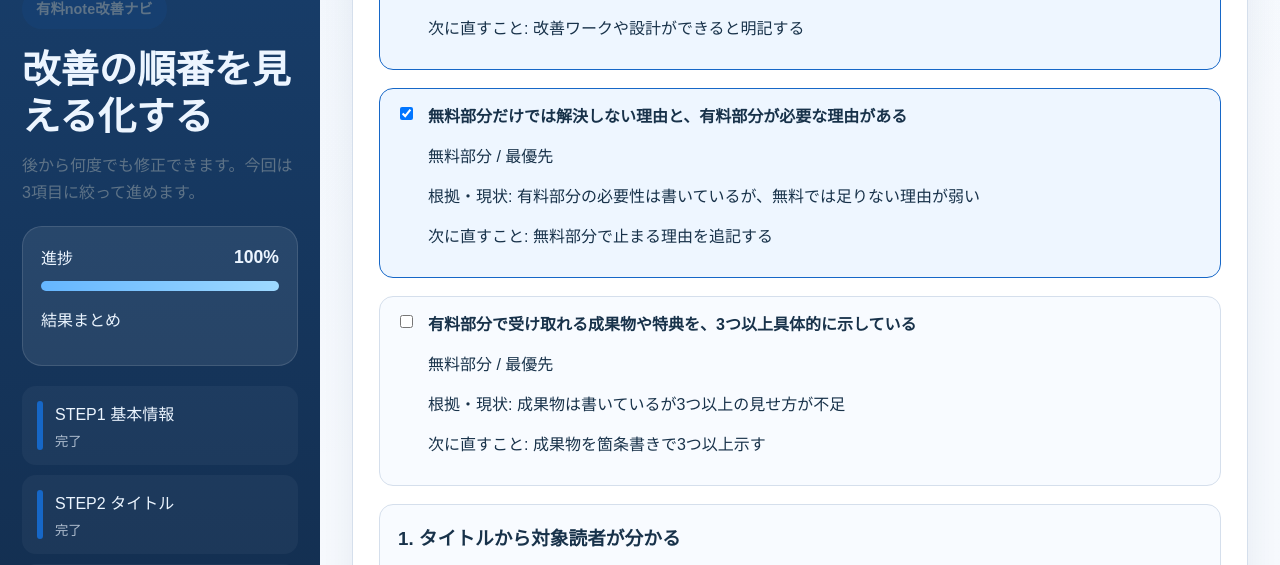
it: App UI › 最優先が4件以上なら3件まで選択できる
(page scrolled)
Click the 2nd checkbox at (406, 321), box [400,315,413,328]
(page scrolled)
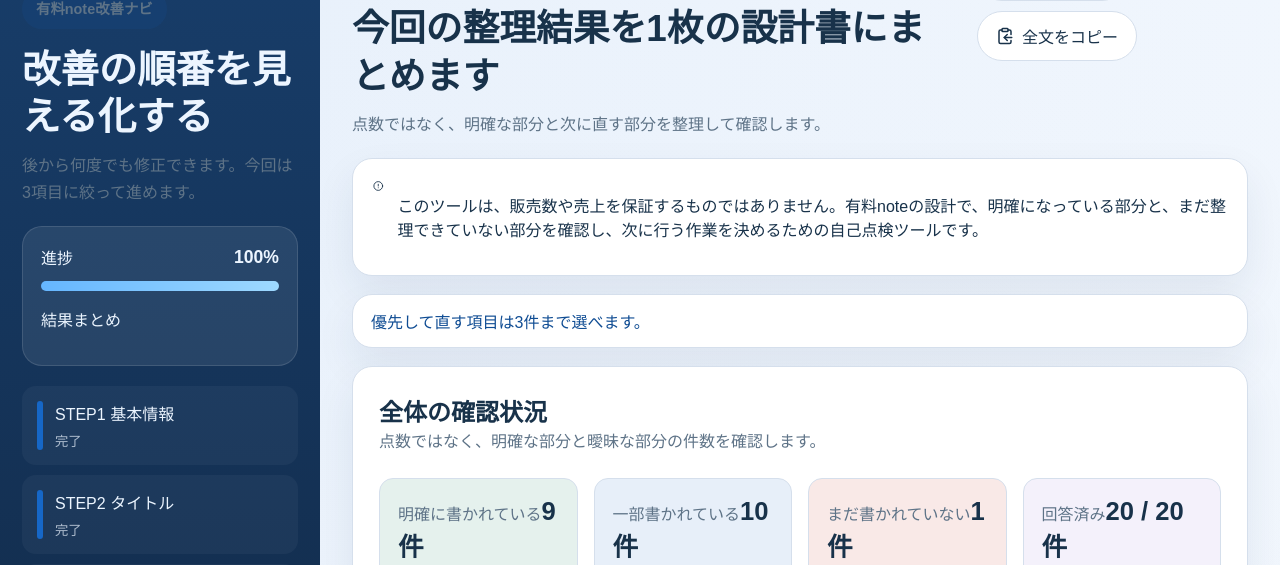
Check: the text "優先して直す項目は3件まで選べます。" is shown, box [352,294,1248,348]
